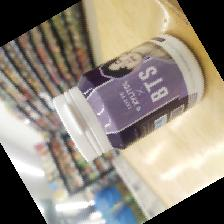Xylitol_BTS: (50, 32, 207, 161)
